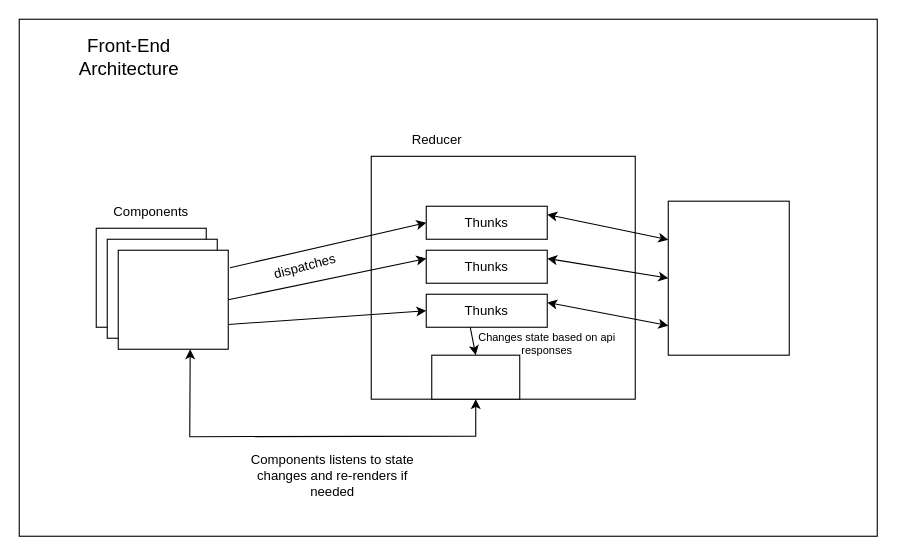
The diagram is 897 pixels wide and 556 high, and some of its shapes have lost their labels. The box of each missing label's shape, as (x1, y1, x2, y2) in pixels:
API: (667, 200, 789, 355)
State: (431, 354, 520, 399)
